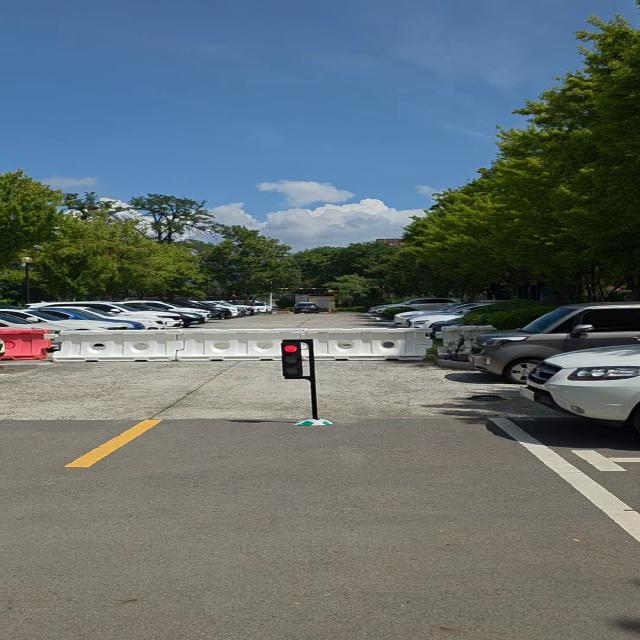red: (277, 342, 311, 378)
